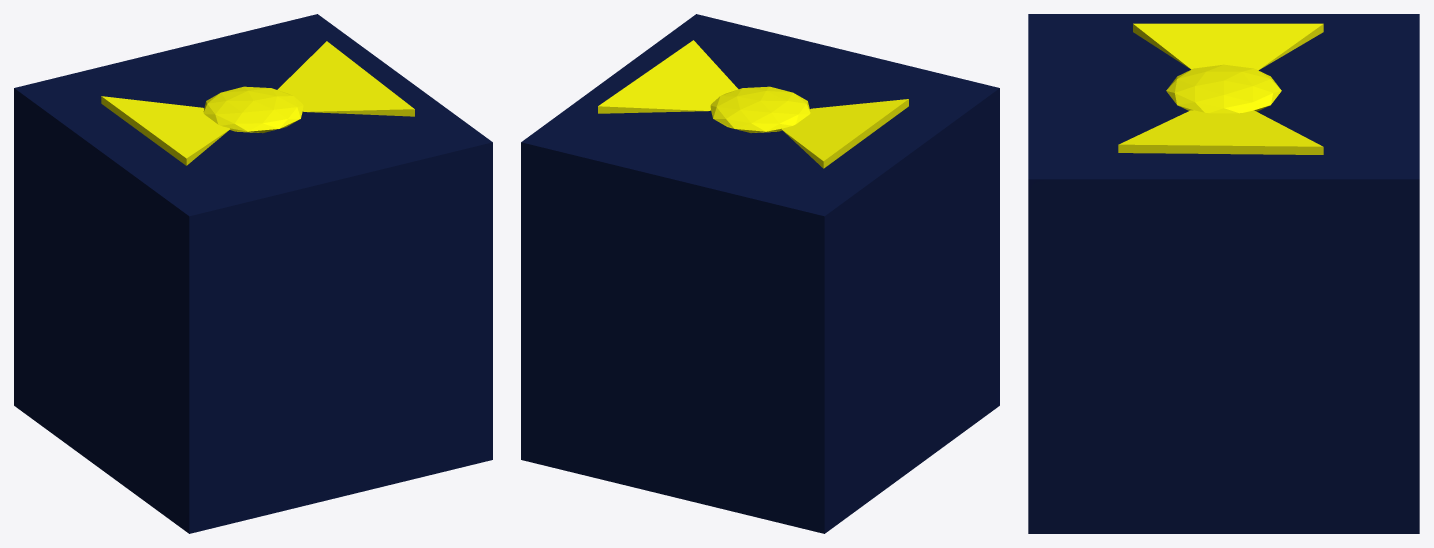
Rendered from katherine.dae.
3 views of the same model, side by side, from view 1: azimuth 30°, elevation 25°; view 2: azimuth 150°, elevation 25°; view 3: azimuth 270°, elevation 25° (orthographic). The views are drawn at different scales.
Parts seen in each view (by area): view 1: Cube; view 2: Cube; view 3: Cube.
Part boxes in pixels (x1,y1,x2,y2): Cube: (14,14,492,533); Cube: (521,14,999,533); Cube: (1028,14,1419,533).
Bounding box in the file's own units: 0.3001 × 0.3001 × 0.3137.
1 material, 1 textured.
